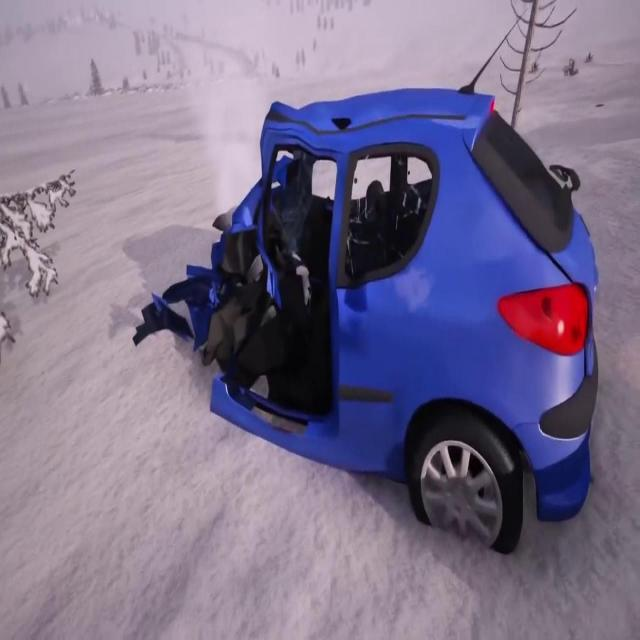accident: (126, 86, 604, 558)
